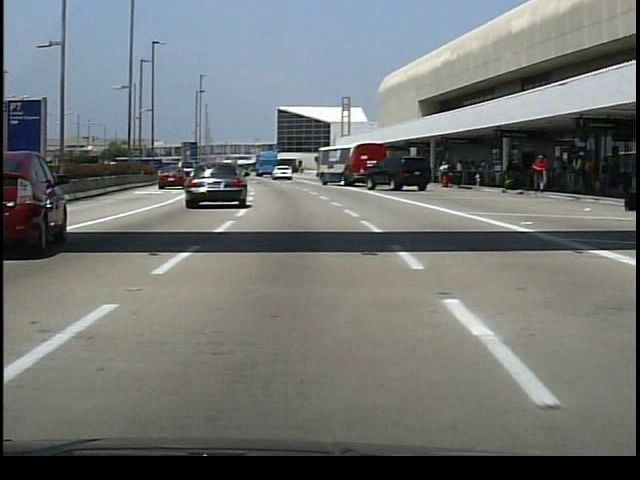person: (526, 152, 550, 195), (595, 156, 613, 193), (570, 151, 583, 191), (438, 158, 453, 188), (507, 156, 518, 186)
